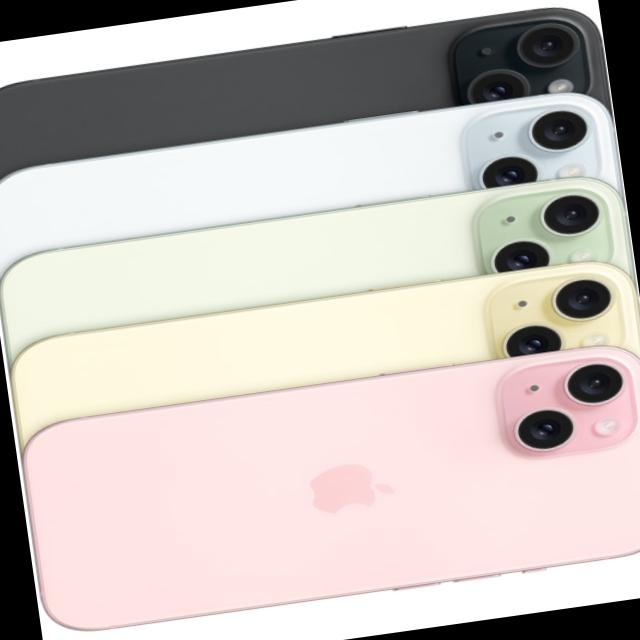mobile_phone: (18, 342, 640, 640), (0, 4, 622, 273)
